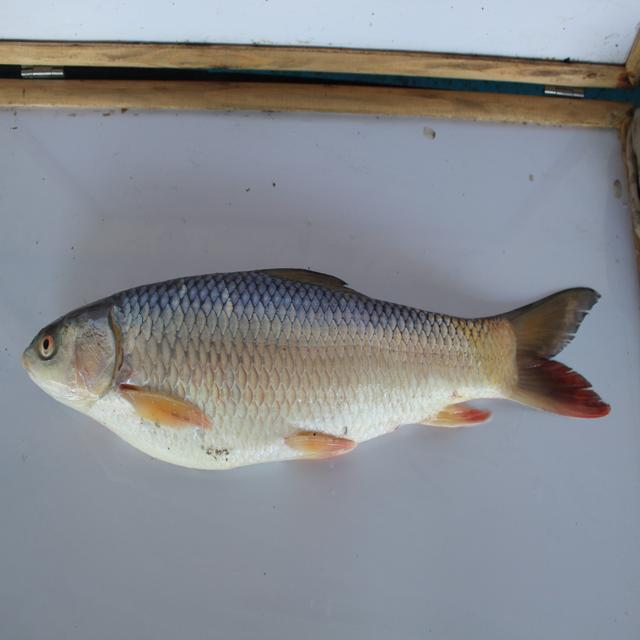Mori: (18, 261, 621, 480)
